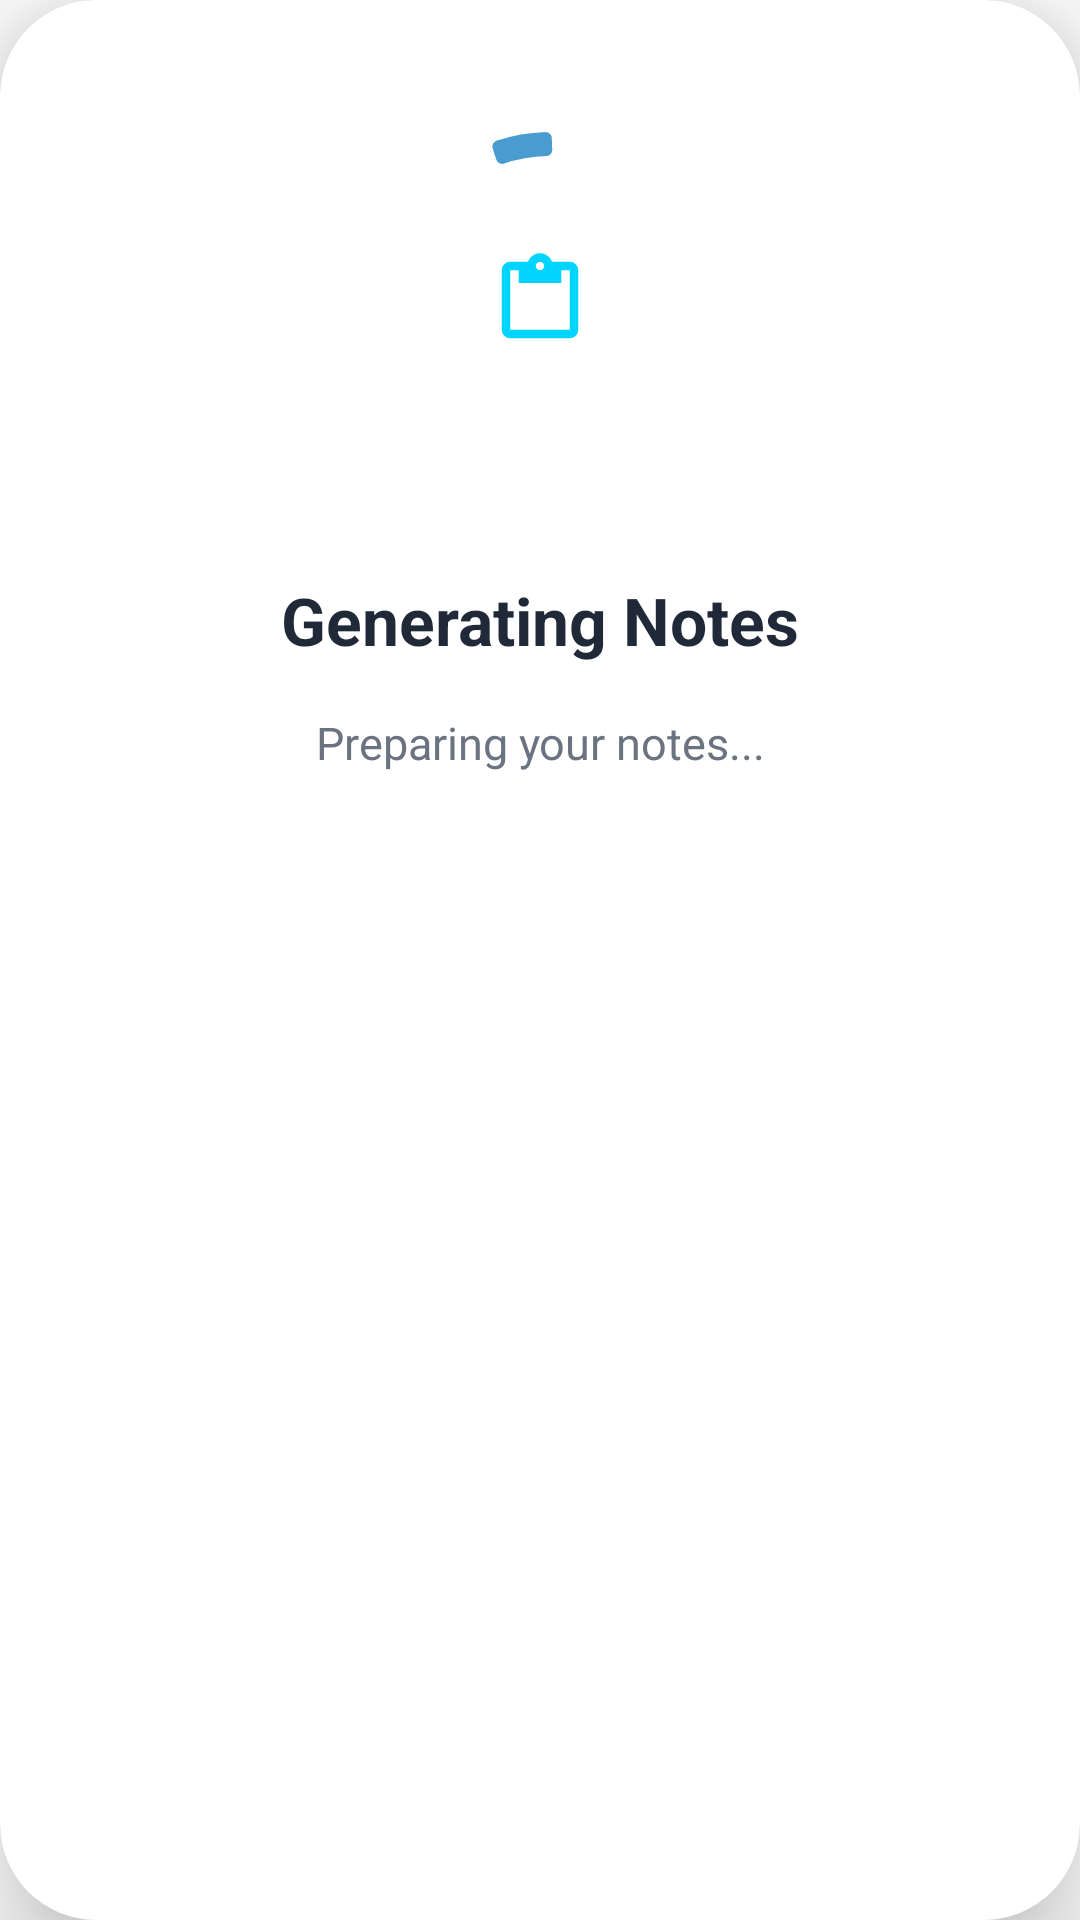

Screen size 1080×1920. Icon name, then its center in pixels as (x=x, y=y):
notes: (x=540, y=296)
